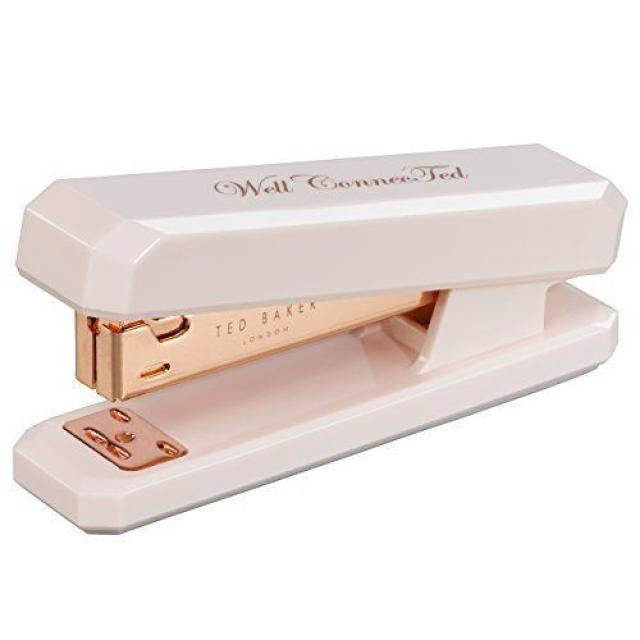Stapler: (16, 131, 640, 553)
